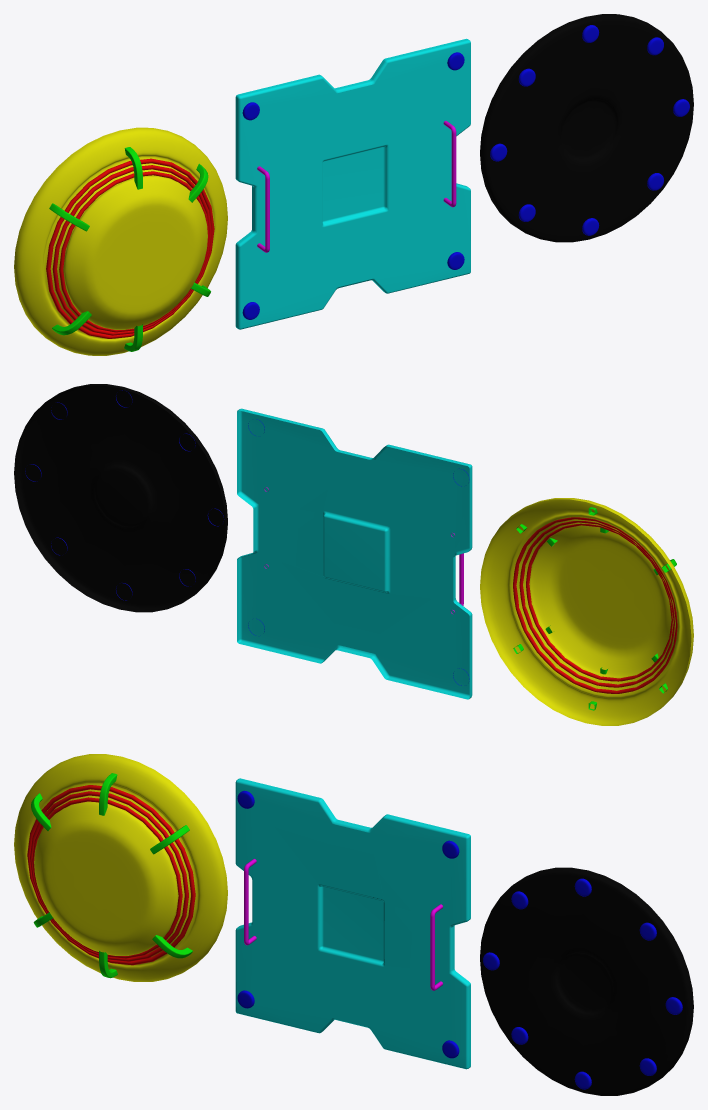
The model's file is Wall_Plating.fbx.
3 renders of one model, top to bottom at view 1: azimuth 30°, elevation 25°; view 2: azimuth 150°, elevation 25°; view 3: azimuth 330°, elevation 25°, orthographic.
Parts seen in each view (by area): view 1: Cubic_Wall_Plating, Spherical_Wall_Plating, Cylindrical_Wall_Plating; view 2: Cubic_Wall_Plating, Spherical_Wall_Plating, Cylindrical_Wall_Plating; view 3: Cubic_Wall_Plating, Spherical_Wall_Plating, Cylindrical_Wall_Plating.
Part boxes in pixels (x1,y1,x2,y2): Cubic_Wall_Plating: (235, 38, 470, 329); Spherical_Wall_Plating: (14, 127, 227, 355); Cylindrical_Wall_Plating: (480, 14, 693, 242); Cubic_Wall_Plating: (237, 408, 472, 699); Spherical_Wall_Plating: (480, 498, 693, 725); Cylindrical_Wall_Plating: (14, 384, 227, 612); Cubic_Wall_Plating: (235, 778, 470, 1069); Spherical_Wall_Plating: (14, 754, 227, 981); Cylindrical_Wall_Plating: (480, 867, 693, 1095).
Size of the model in its own units: 1139 by 375 by 72.9.
